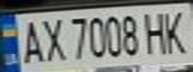0: (87, 12, 109, 59), (103, 11, 124, 58)
7: (66, 14, 87, 61)
8: (121, 11, 142, 57)
A: (15, 16, 48, 64)
H: (139, 8, 172, 55)
K: (160, 6, 193, 55)
X: (36, 15, 66, 63)
